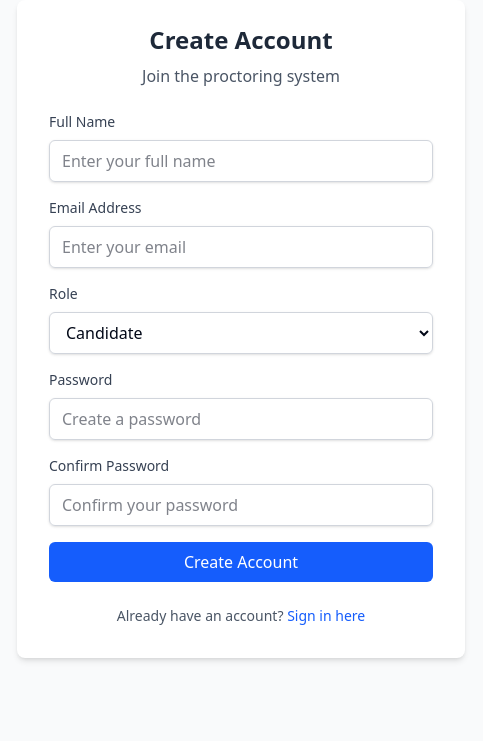
SignupForm › handles signup failure
Note: Fill form with valid data
Type "John Doe" into the field labelled "Full Name" at (241, 161), box [49,140,433,182]
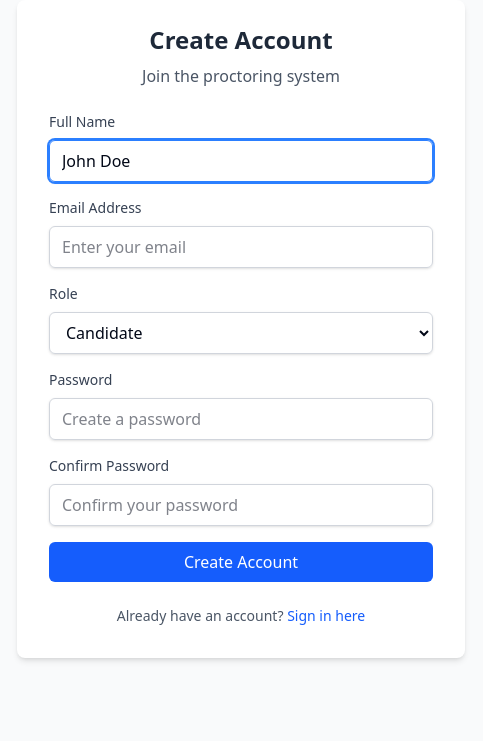
Type "existing@example.com" into the field labelled "Email Address" at (241, 247), box [49,226,433,268]
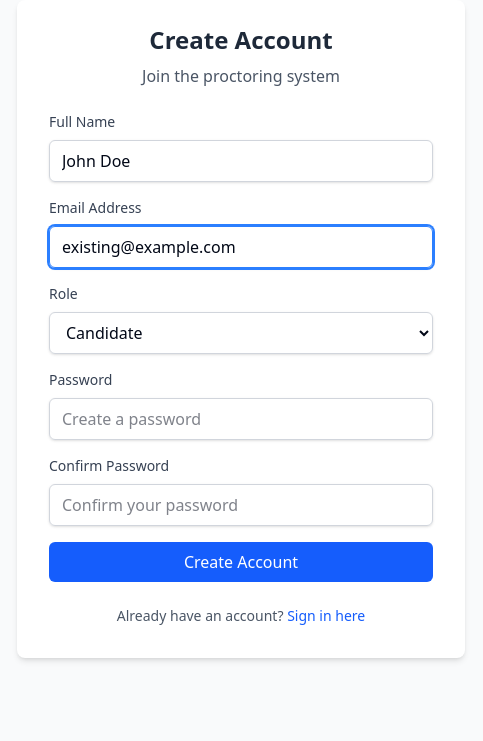
Type "Password123" into the password field labelled "Password" at (241, 419), box [49,398,433,440]
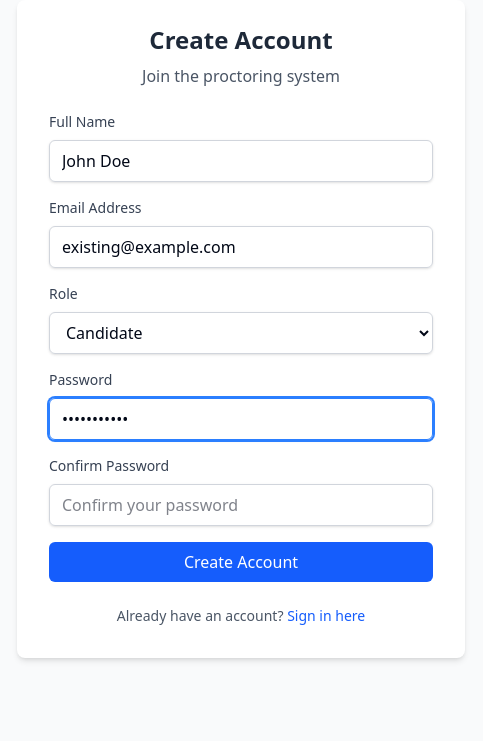
Type "Password123" into the password field labelled "Confirm Password" at (241, 505), box [49,484,433,526]
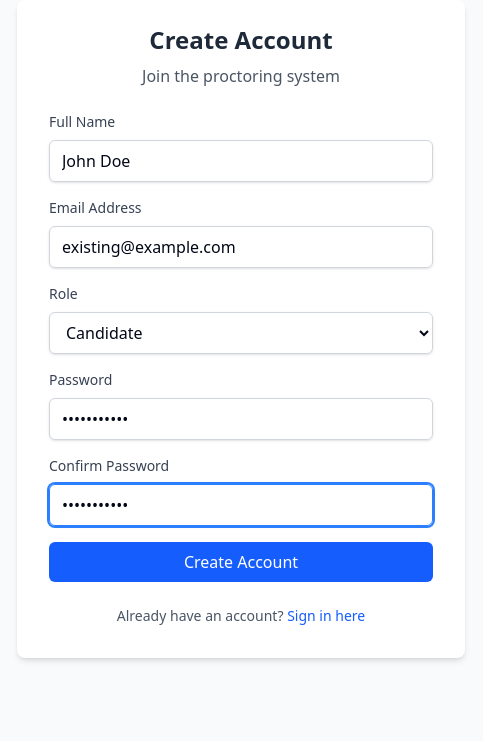
Note: Submit form
Click the button "Create Account" at (241, 562), box [49,542,433,582]
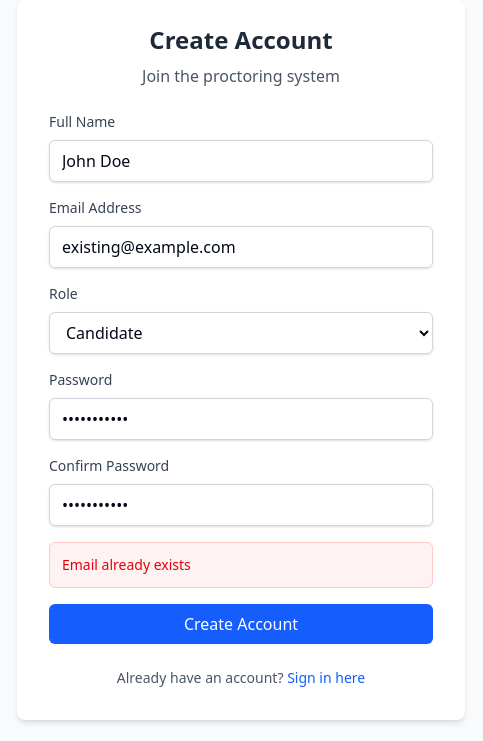
Check: the text "Email already exists" is shown, box [62,555,191,574]
